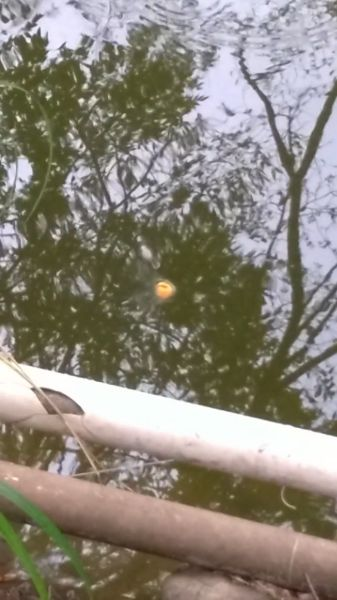eggs: (150, 278, 177, 300)
